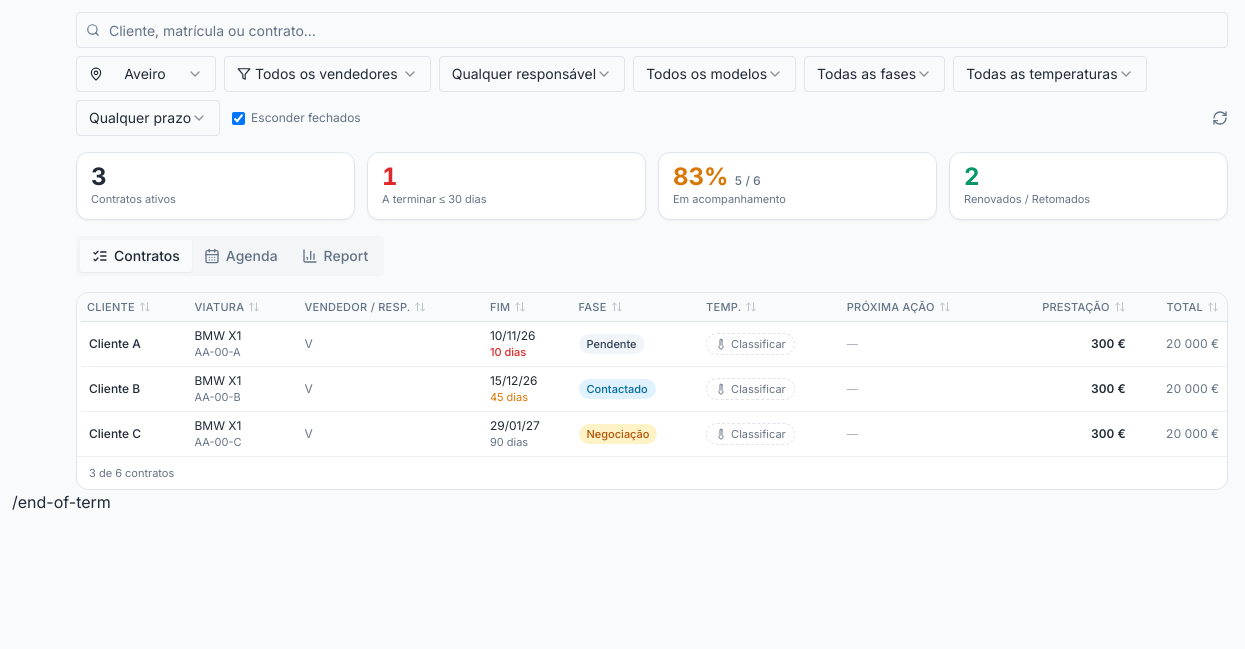
Scenario: EndOfTermPage — contadores clicáveis › o botão "x" do aviso limpa o filtro
This screenshot has width=1245, height=649.
Click the button "83%5 / 6 Em acompanhamento" at (701, 176), box [658, 152, 937, 220]
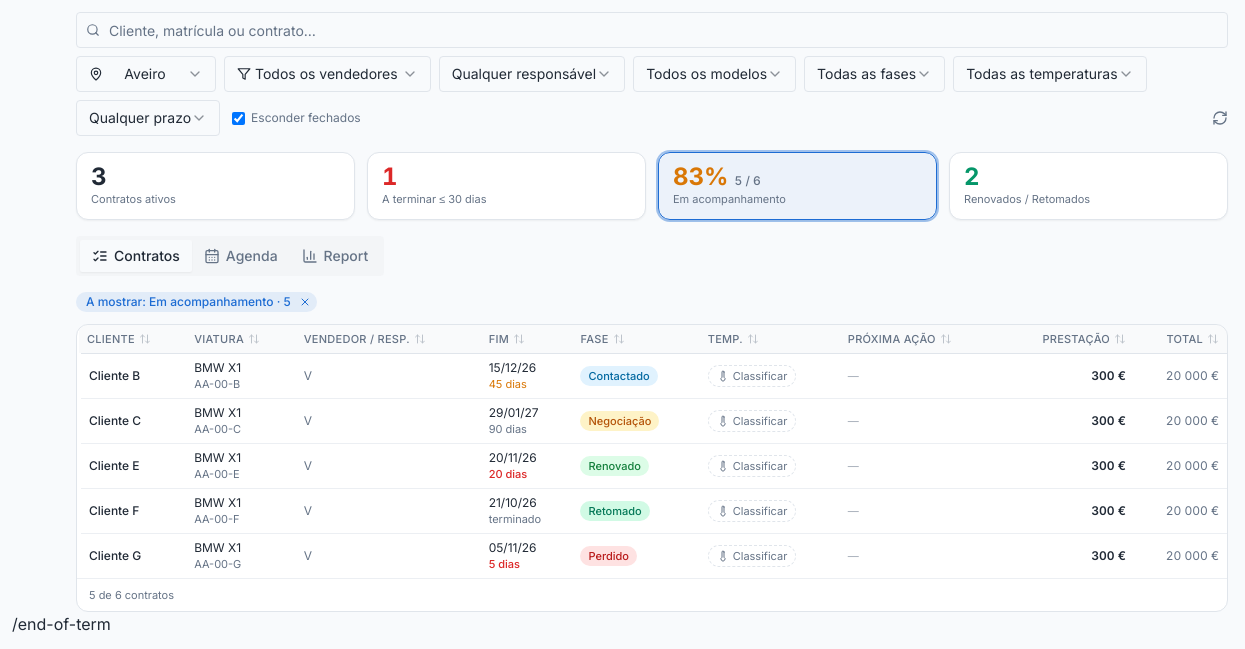
Click the button named "Limpar o filtro do contador" at (305, 302), box [297, 294, 313, 310]
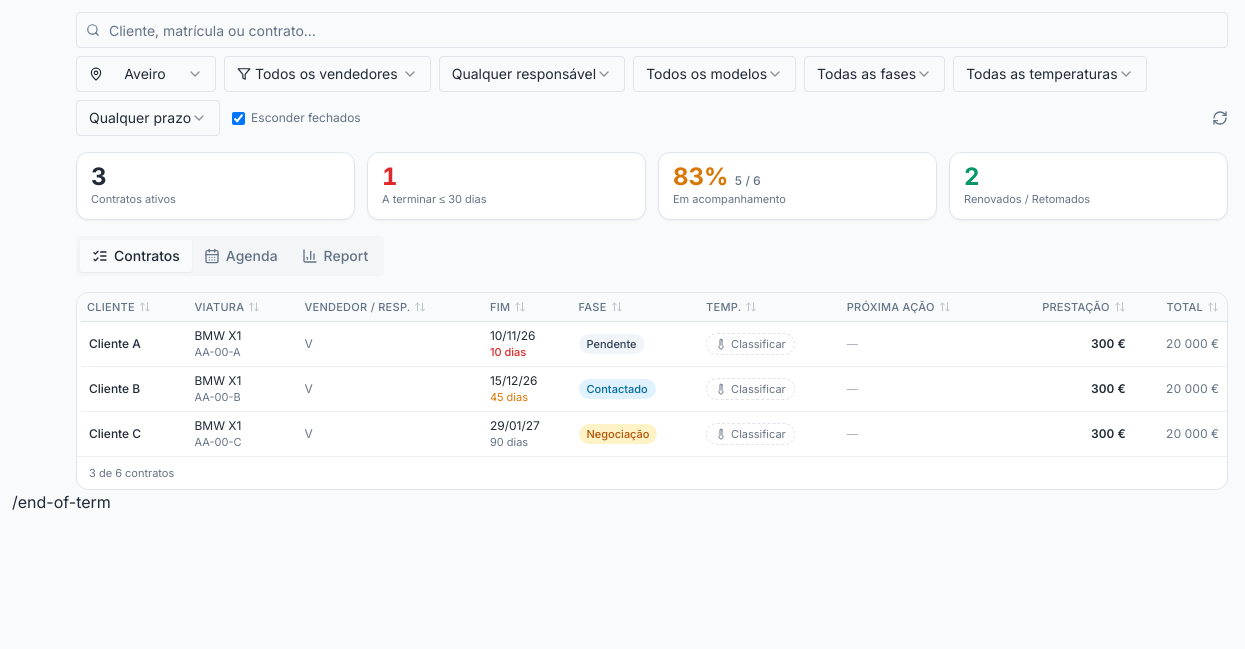
Expected: the text "A mostrar:" is gone
